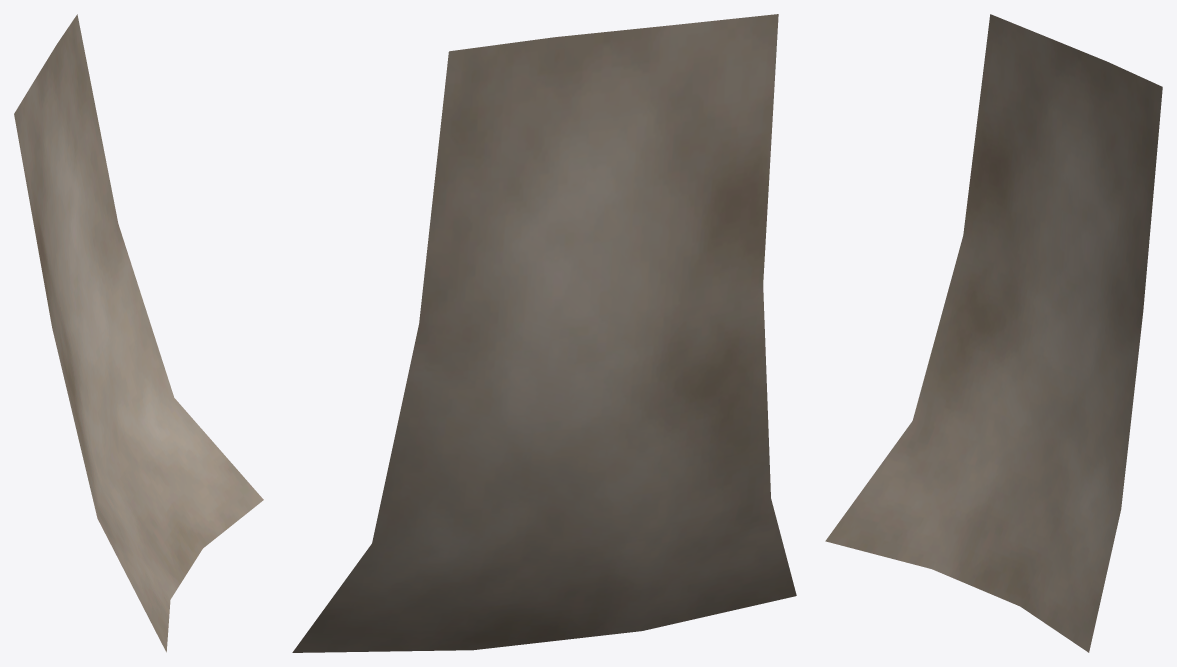
The model's file is web_01.fbx.
The picture shows the model from 3 angles, left to right: view 1: azimuth 30°, elevation 25°; view 2: azimuth 150°, elevation 25°; view 3: azimuth 270°, elevation 25°; orthographic projection. The views are drawn at different scales.
Parts seen in each view (by area): view 1: mine_tileset/mine_web02_mat; view 2: mine_tileset/mine_web02_mat; view 3: mine_tileset/mine_web02_mat.
Boxes of the visible parts, box(x1,y1,x2,y2) form: mine_tileset/mine_web02_mat: box(14, 14, 263, 652); mine_tileset/mine_web02_mat: box(292, 14, 796, 652); mine_tileset/mine_web02_mat: box(825, 14, 1162, 652).
Size of the model in its own units: 4.53 by 7.17 by 4.43.
